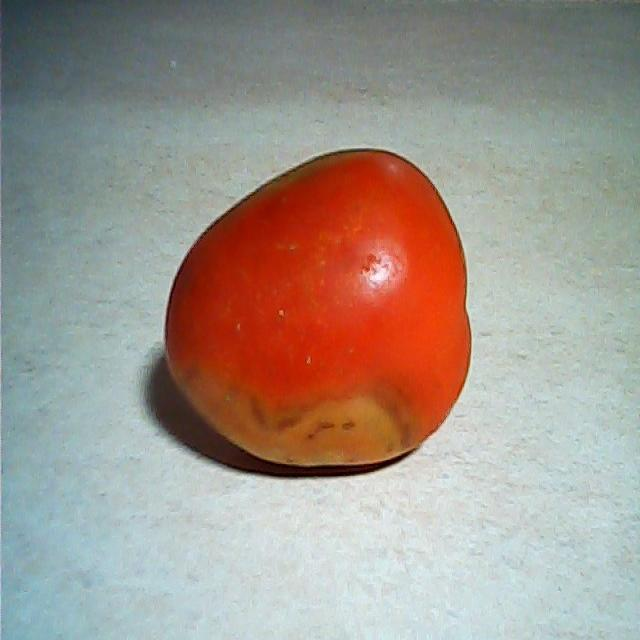maduro: (161, 145, 473, 474)
